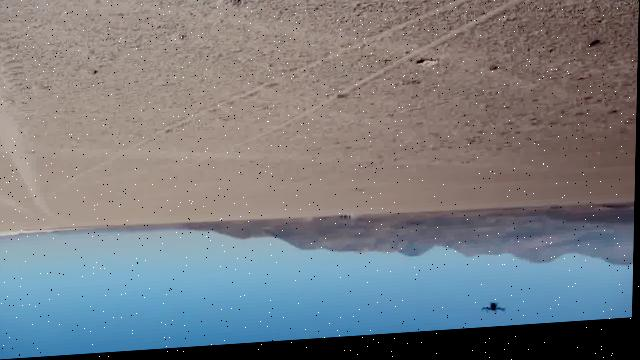drone: (479, 307, 509, 325)
